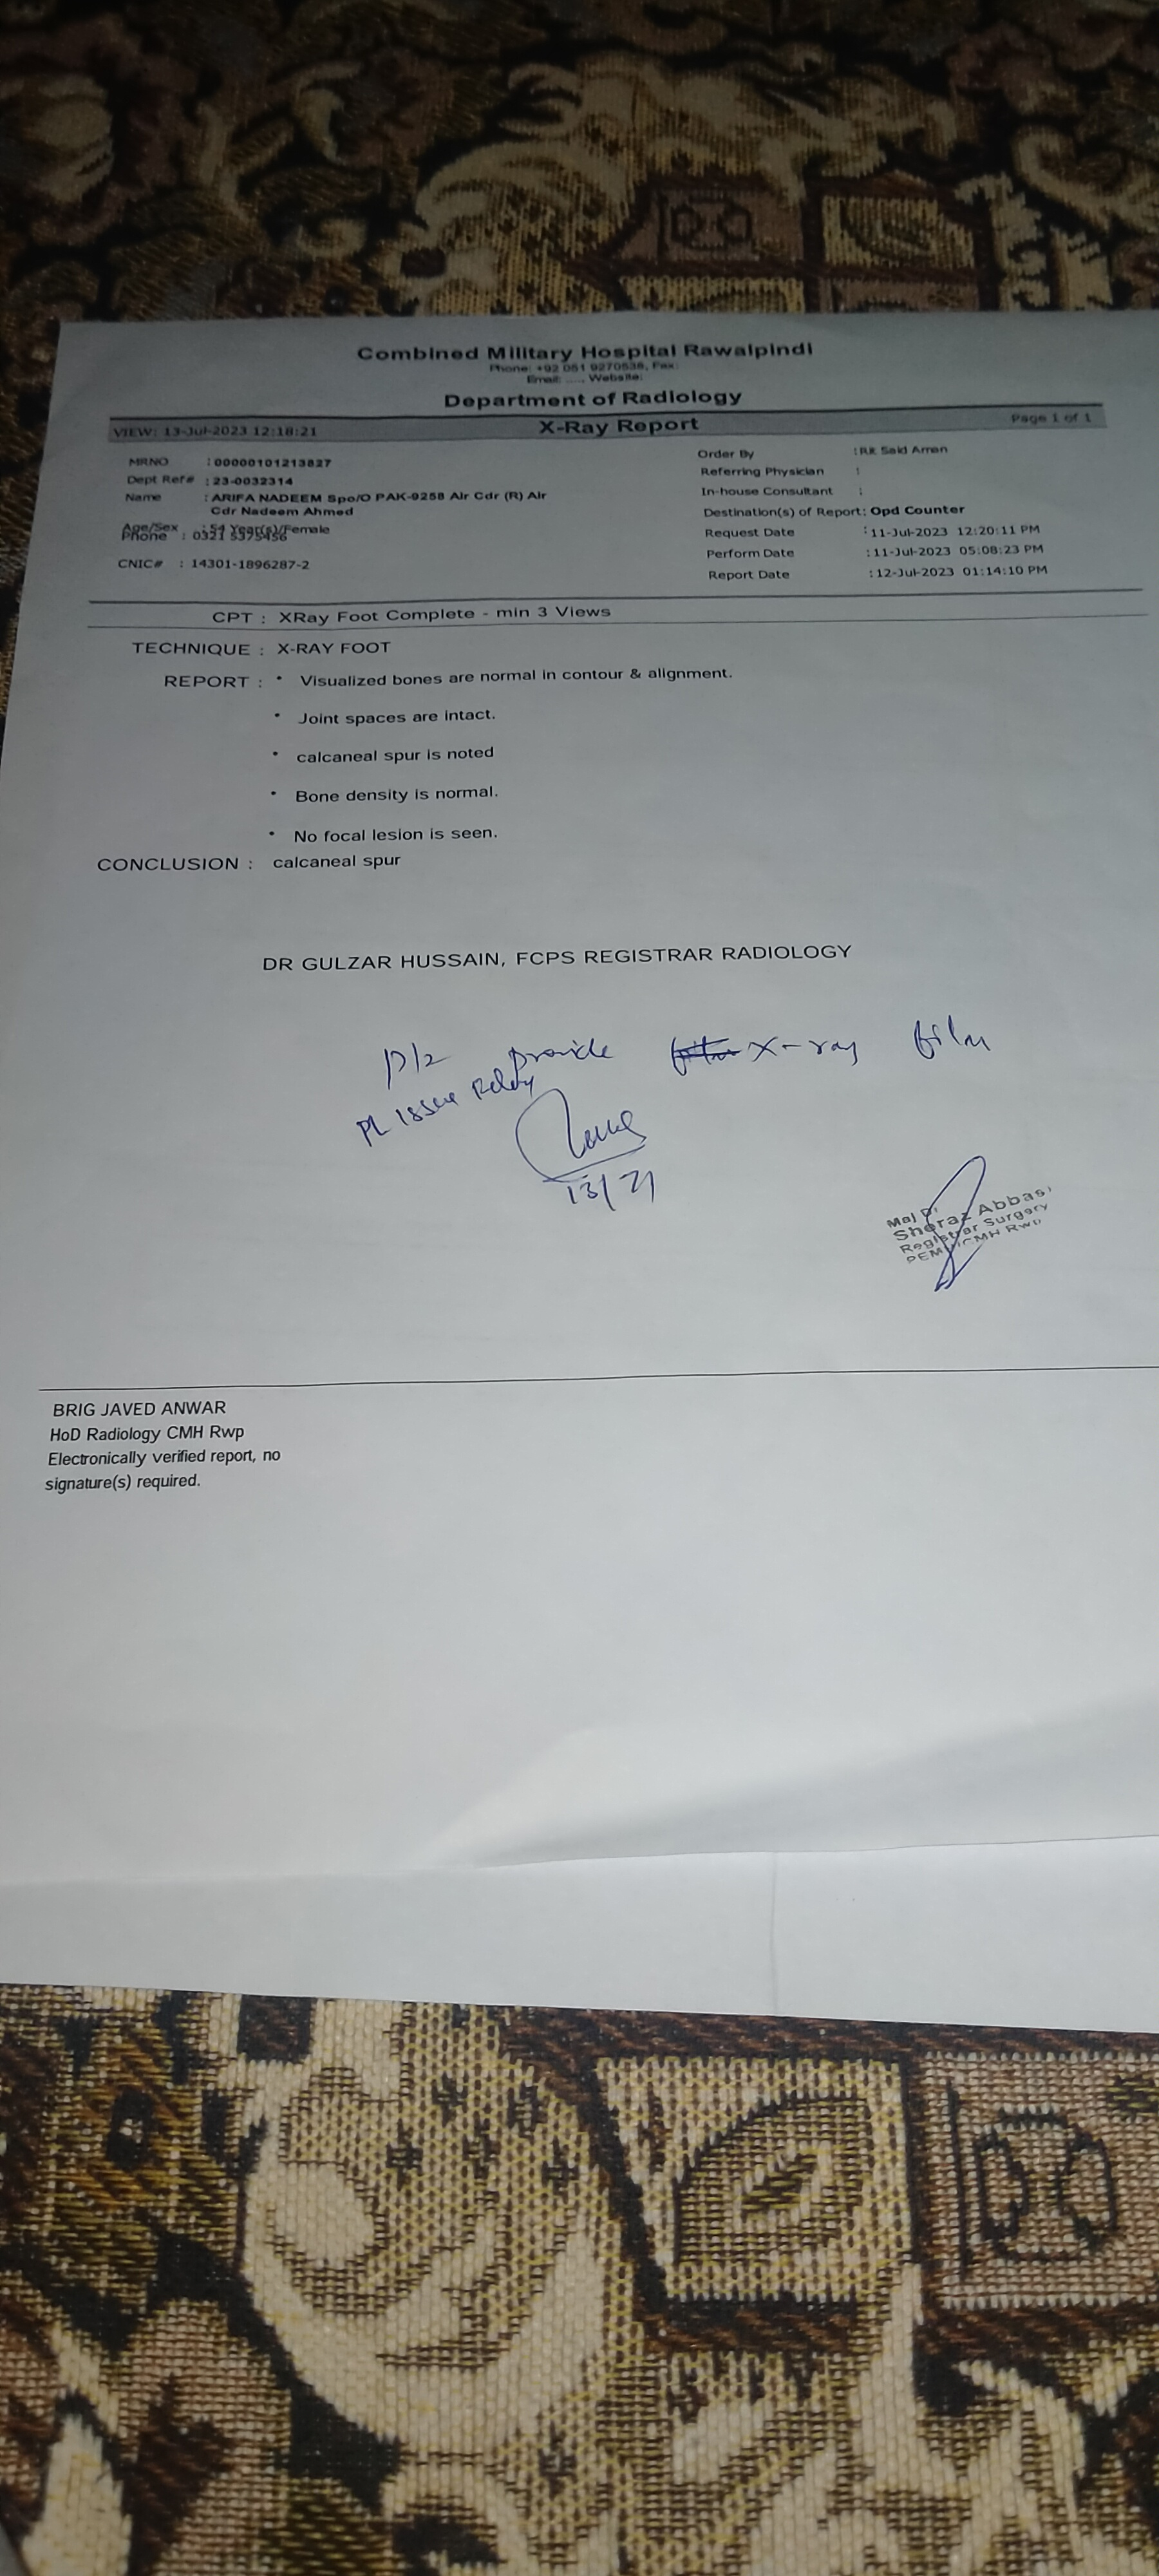report: (57, 582, 1159, 984)
